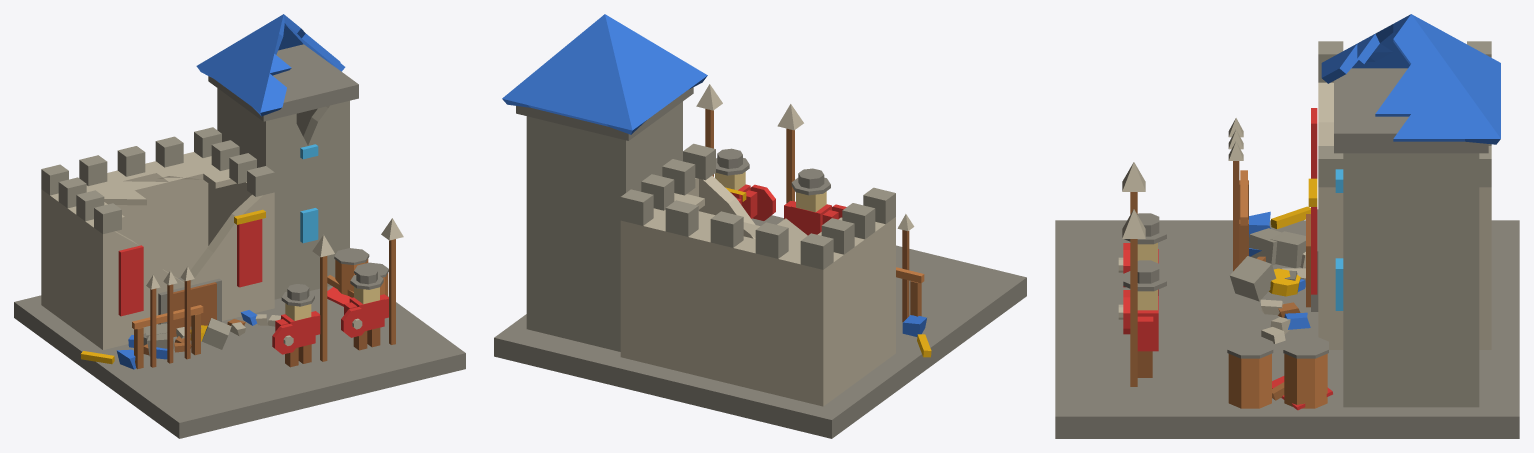
The model's file is barracks_t2_v2_dmg1.glb.
3 views of the same model, side by side, from view 1: azimuth 30°, elevation 25°; view 2: azimuth 150°, elevation 25°; view 3: azimuth 270°, elevation 25° (orthographic). The views are drawn at different scales.
Visible parts, largest first — view 1: barracks_t2_v2_dmg1; view 2: barracks_t2_v2_dmg1; view 3: barracks_t2_v2_dmg1.
Boxes of the visible parts, x1,y1,x2,y2 form: barracks_t2_v2_dmg1: (14, 14, 465, 438); barracks_t2_v2_dmg1: (494, 14, 1026, 438); barracks_t2_v2_dmg1: (1055, 14, 1519, 438).
Size of the model in its own units: 0.7733 by 0.69 by 0.75.
Materials: 1 (1 with a texture image).
